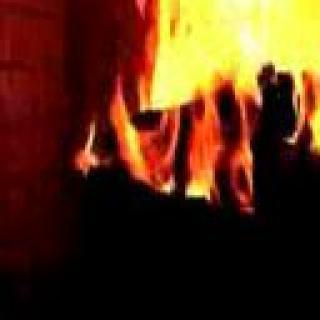fire: (124, 0, 320, 143)
